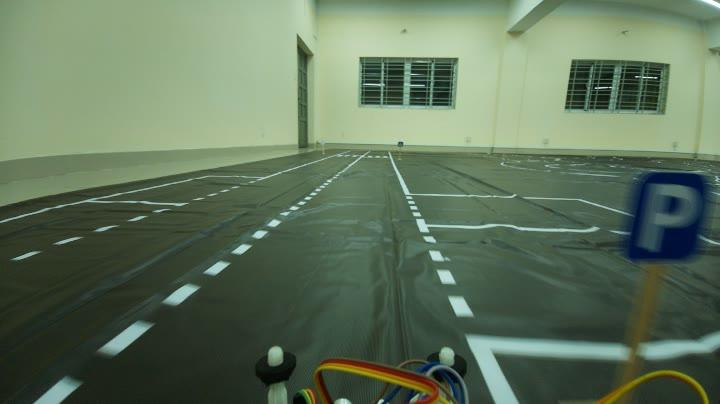parking: (622, 162, 712, 266)
